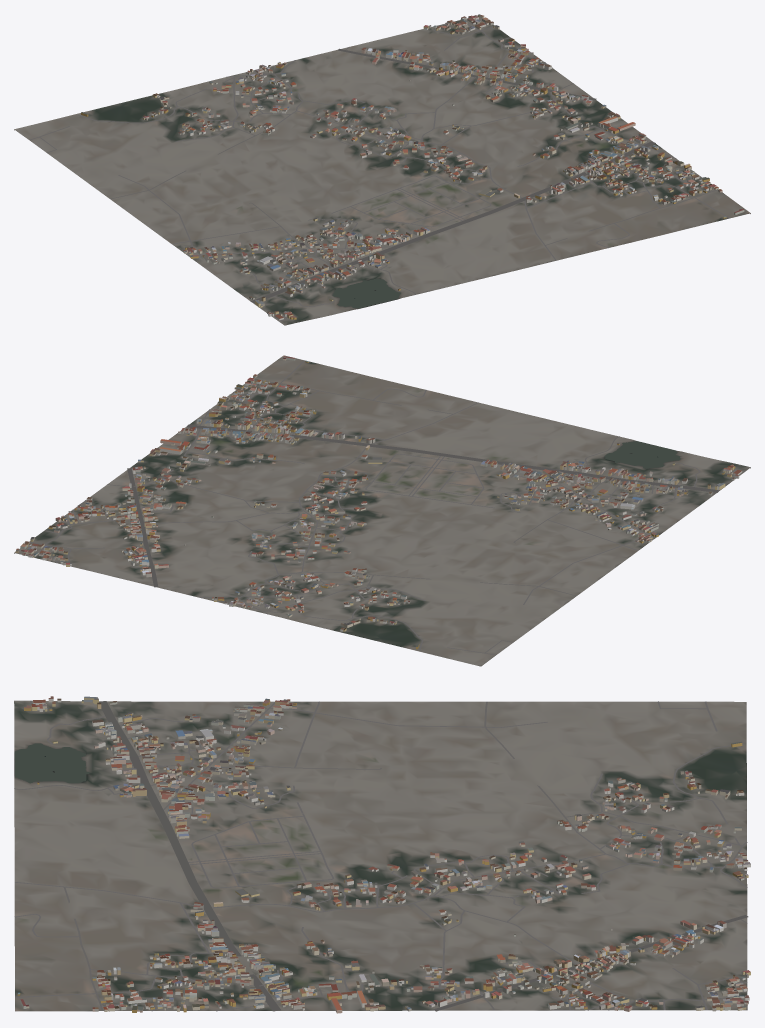
3 renders of one model, top to bottom at view 1: azimuth 30°, elevation 25°; view 2: azimuth 150°, elevation 25°; view 3: azimuth 270°, elevation 25°, orthographic. The views are drawn at different scales.
Visible parts, largest first — view 1: ground, buildings, roads, water; view 2: ground, buildings, roads, water; view 3: ground, buildings, roads, water.
Boxes of the visible parts, box(x1,y1,x2,y2) form: ground: box(14, 17, 750, 325); buildings: box(81, 14, 744, 320); roads: box(29, 24, 730, 321); water: box(332, 278, 400, 308); ground: box(14, 355, 750, 666); buildings: box(15, 356, 742, 649); roads: box(30, 360, 744, 655); water: box(604, 441, 680, 468); ground: box(14, 700, 747, 1011); buildings: box(17, 696, 750, 1013); roads: box(14, 700, 748, 1011); water: box(14, 743, 90, 783).
Size of the model in its own units: 1413 by 19.46 by 1410.
